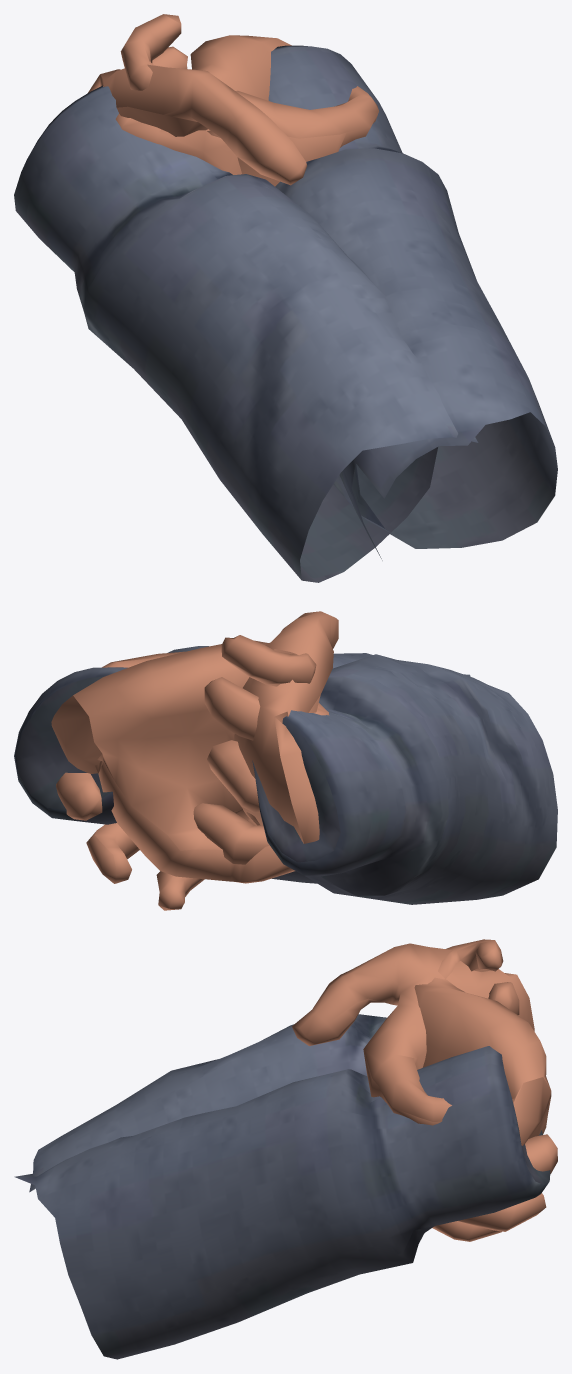
The model's file is maos_volante.glb.
3 views of the same model, one above another, from view 1: azimuth 30°, elevation 25°; view 2: azimuth 150°, elevation 25°; view 3: azimuth 270°, elevation 25° (orthographic). The views are drawn at different scales.
Parts seen in each view (by area): view 1: MaoEsq, MaoDir; view 2: MaoEsq, MaoDir; view 3: MaoDir, MaoEsq.
Boxes of the visible parts, left/top/right/bottom form: MaoEsq: left=14, top=64, right=478, bottom=582; MaoDir: left=115, top=14, right=557, bottom=560; MaoEsq: left=56, top=611, right=557, bottom=910; MaoDir: left=14, top=635, right=470, bottom=883; MaoDir: left=14, top=939, right=551, bottom=1359; MaoEsq: left=29, top=943, right=557, bottom=1241.
Bounding box in the file's own units: 0.1913 × 0.2071 × 0.2827.
Materials: 2 (2 with a texture image).
